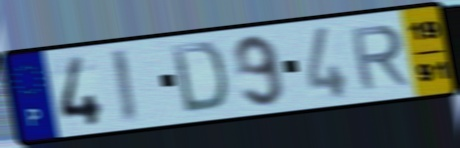4: (305, 22, 351, 101), (57, 52, 104, 129)
9: (232, 32, 286, 109)
D: (168, 40, 230, 116)
I: (107, 46, 140, 126)
R: (347, 22, 413, 93)
